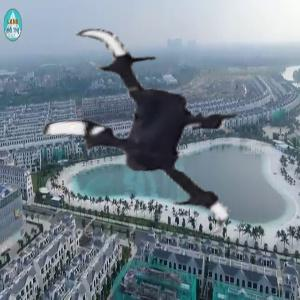drone: (12, 14, 259, 261)
